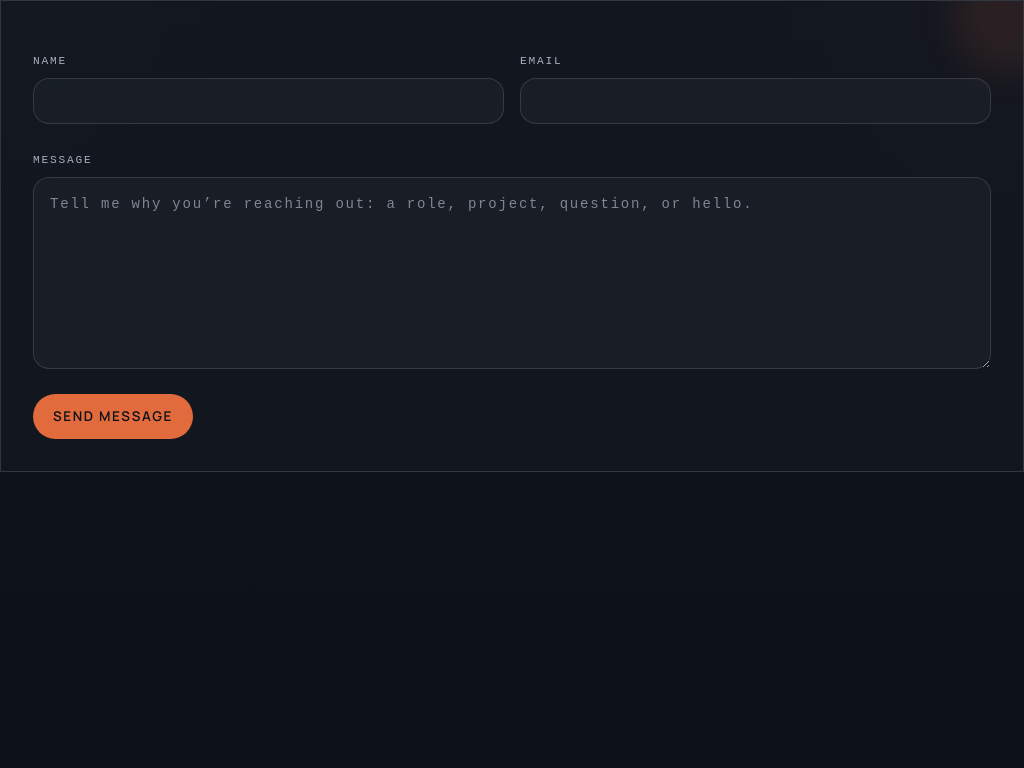
Test case: ContactForm › shows error message when API responds with error
Type "Jane Dev" into the field labelled "Name" at (268, 101), box [33,78,504,124]
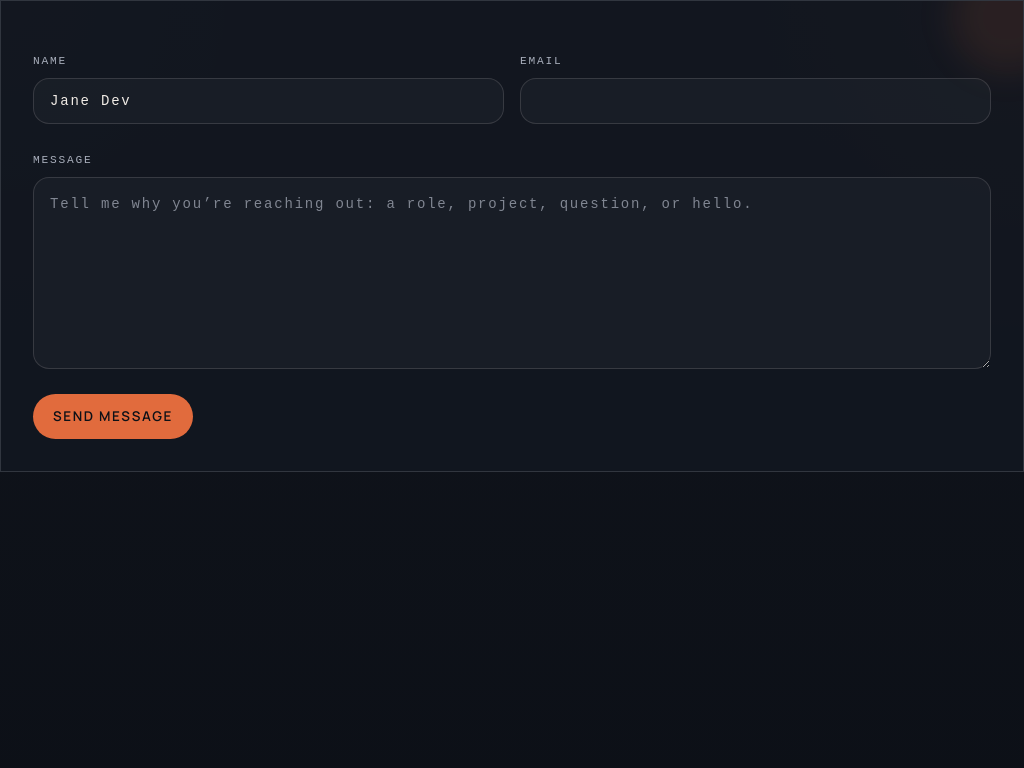
Type "jane@example.com" into the field labelled "Email" at (756, 101), box [520,78,991,124]
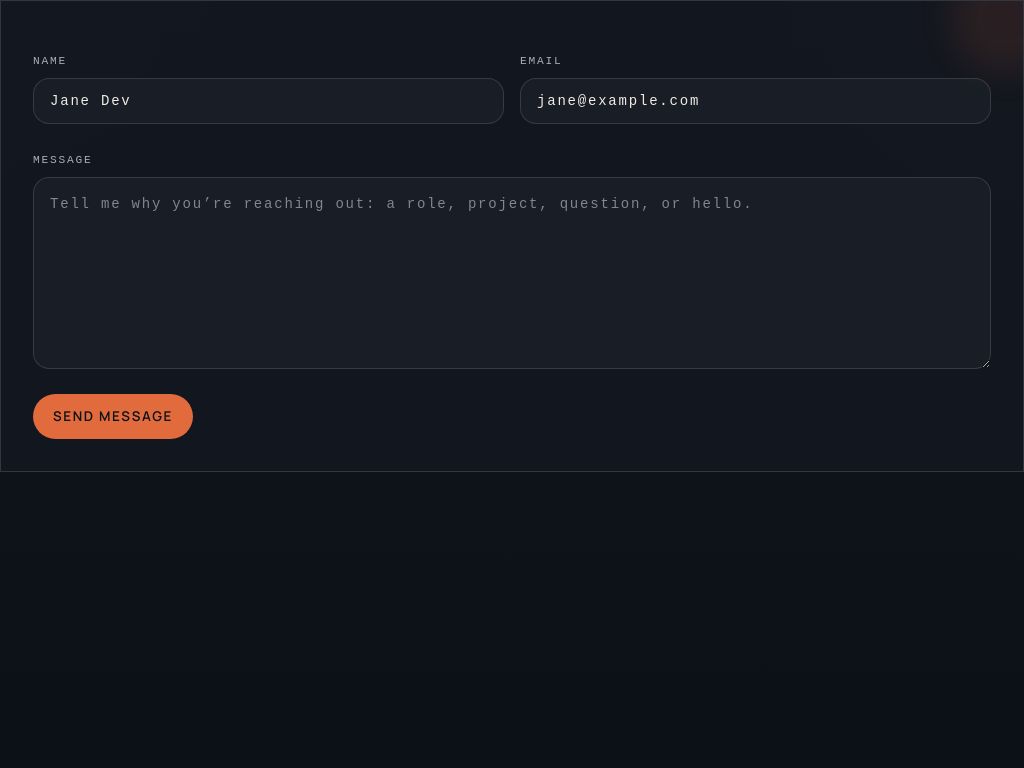
Replace the text in the text box labelled "Message" with "Hello, this is a long-enough test message." at (512, 273), box [33,177,991,369]
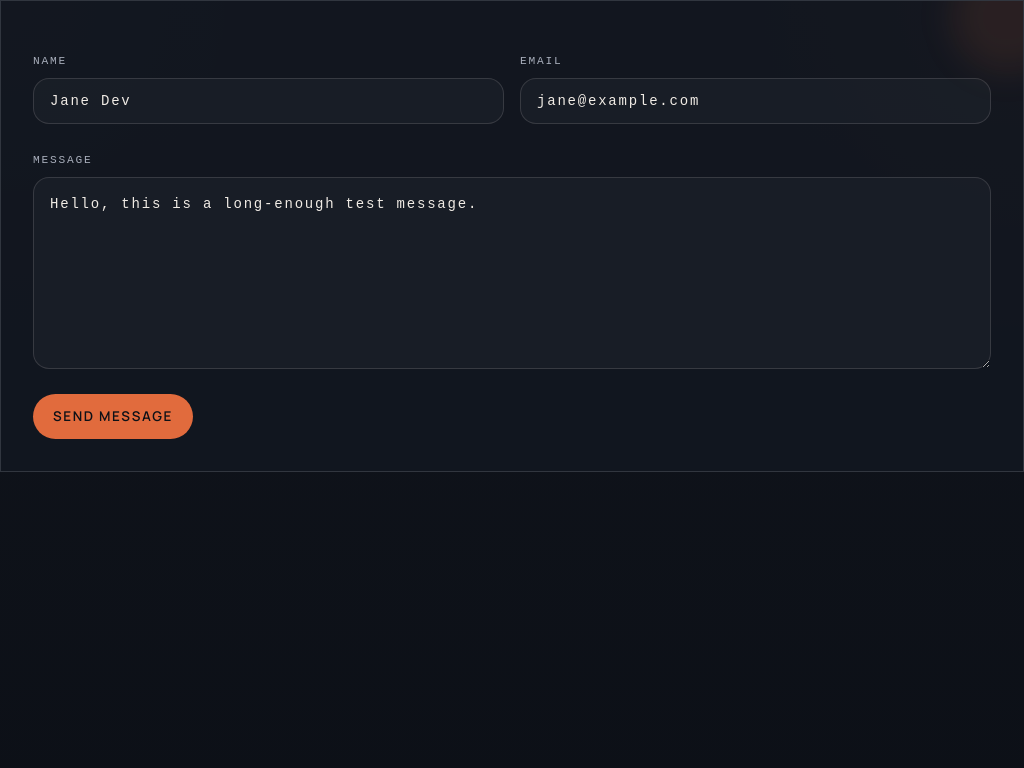
Submit the form "Name Email Message Send message"
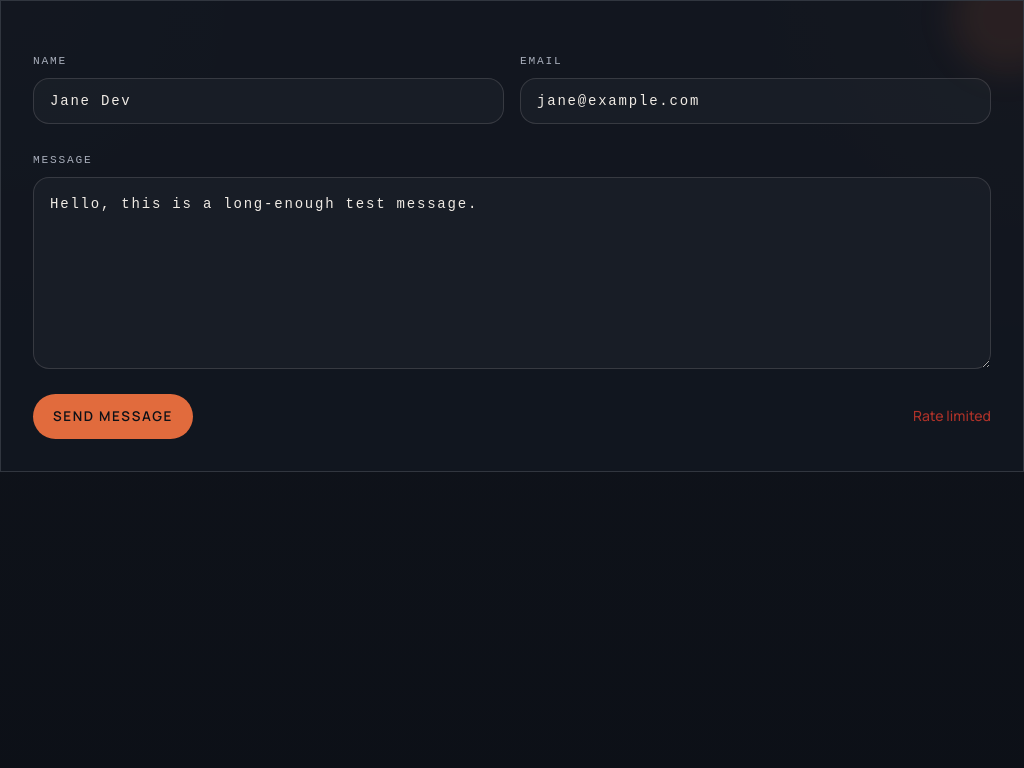
Result: the text "Rate limited" is shown at [913,406,991,426]
